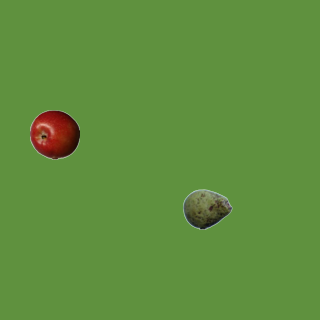Apple Braeburn: (29, 109, 79, 159)
Pear Stone: (182, 184, 232, 234)
